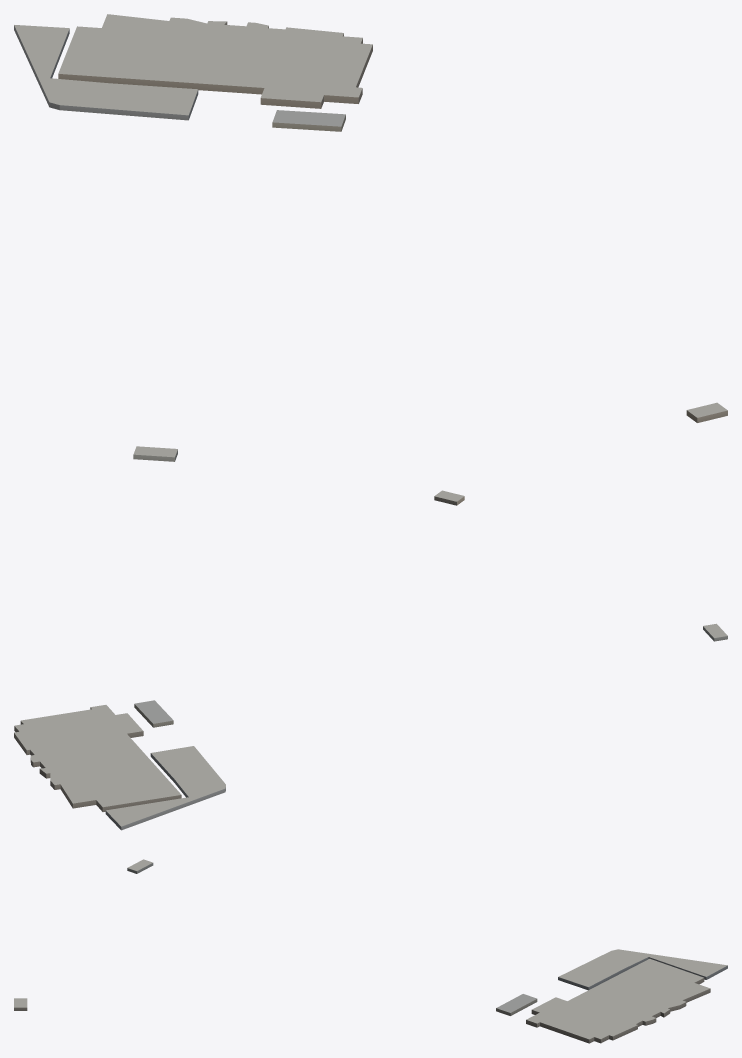
The model's file is bld_10_3.fbx.
3 views of the same model, one above another, from view 1: azimuth 30°, elevation 25°; view 2: azimuth 150°, elevation 25°; view 3: azimuth 270°, elevation 25° (orthographic). The views are drawn at different scales.
Parts seen in each view (by area): view 1: bld_10_3_LOD0; view 2: bld_10_3_LOD0; view 3: bld_10_3_LOD0.
Boxes of the visible parts, x1=… form: bld_10_3_LOD0: x1=14, y1=14, x2=727, y2=461; bld_10_3_LOD0: x1=14, y1=490, x2=727, y2=830; bld_10_3_LOD0: x1=14, y1=859, x2=727, y2=1043.
Bounding box in the file's own units: 1212 × 12.95 × 2015.
